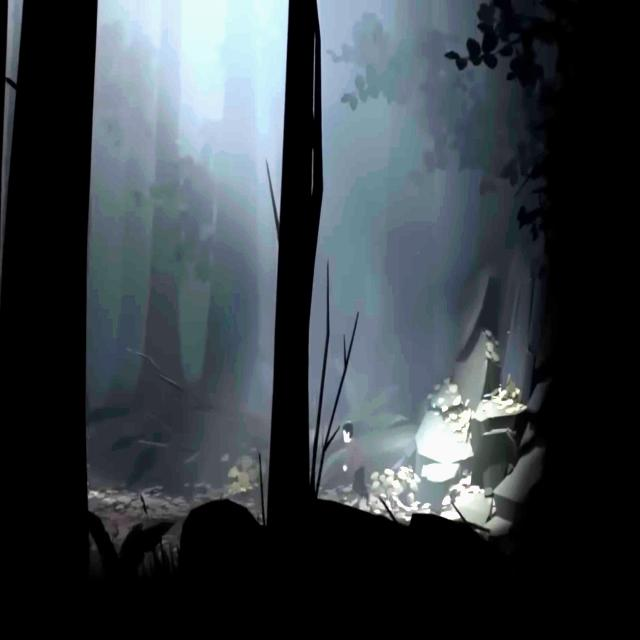boy: (342, 421, 370, 506)
